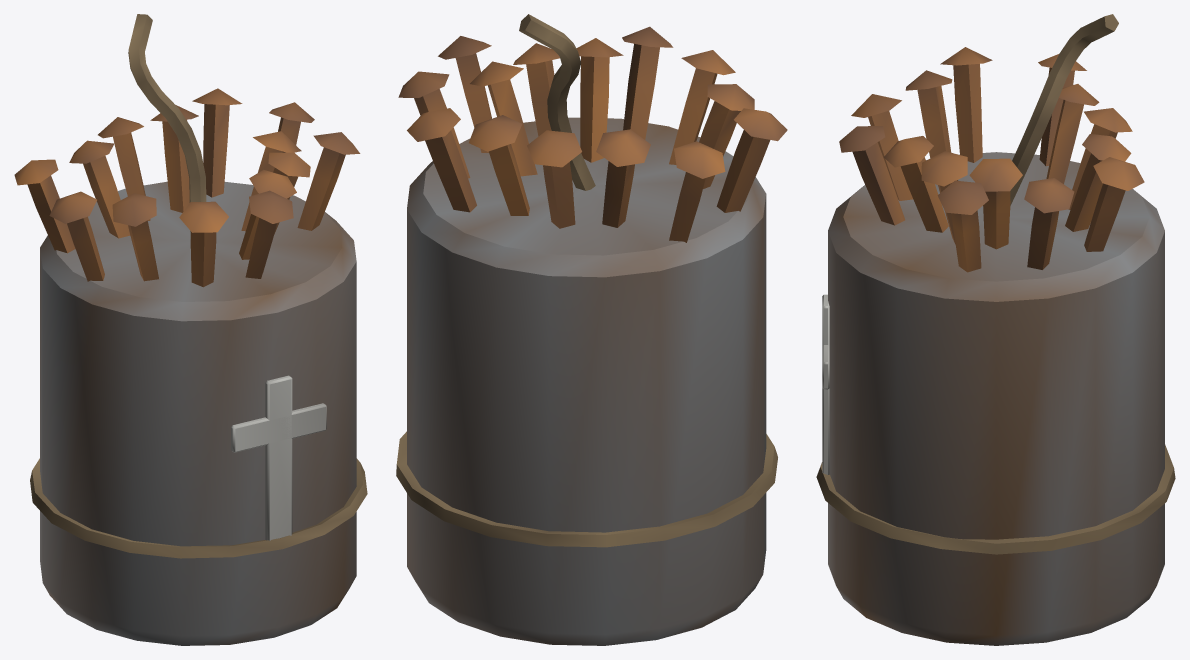
Rendered from nail-bomb.glb.
3 views of the same model, side by side, from view 1: azimuth 30°, elevation 25°; view 2: azimuth 150°, elevation 25°; view 3: azimuth 270°, elevation 25° (orthographic). The views are drawn at different scales.
Visible parts, largest first — view 1: nail-bomb; view 2: nail-bomb; view 3: nail-bomb.
Boxes of the visible parts, left/top/right/bottom form: nail-bomb: left=14, top=14, right=367, bottom=645; nail-bomb: left=396, top=14, right=787, bottom=645; nail-bomb: left=816, top=14, right=1175, bottom=645.
Bounding box in the file's own units: 0.0973 × 0.1618 × 0.0937.
